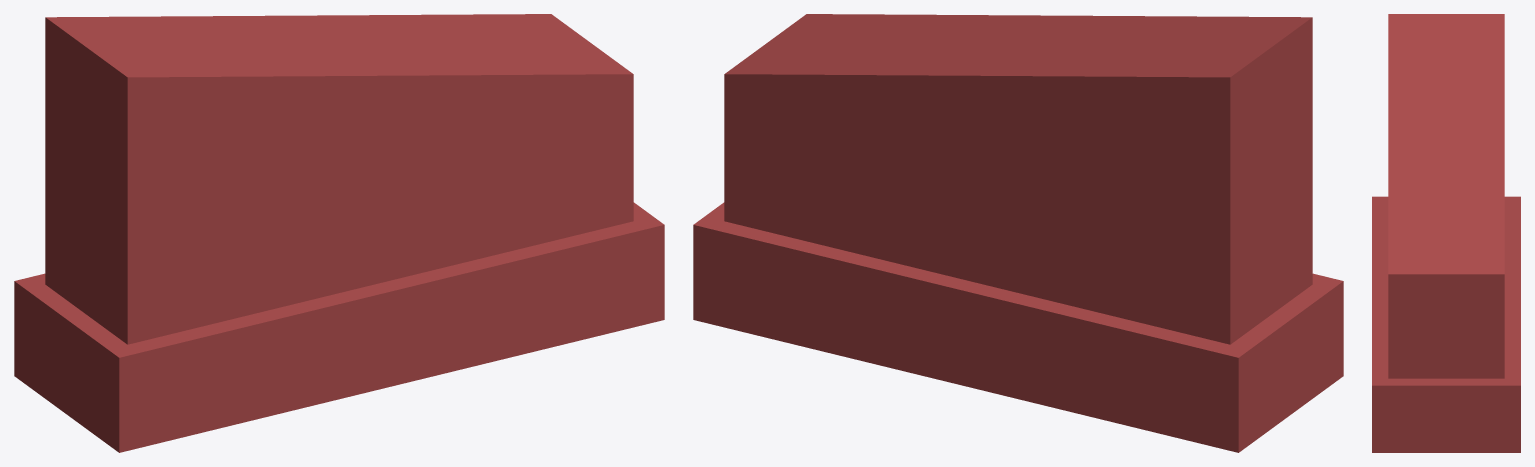
Rendered from Prop_SchoolNameSign.FBX.
3 renders of one model, left to right at view 1: azimuth 30°, elevation 25°; view 2: azimuth 150°, elevation 25°; view 3: azimuth 270°, elevation 25°, orthographic. The views are drawn at different scales.
Parts seen in each view (by area): view 1: Box002; view 2: Box002; view 3: Box002.
Boxes of the visible parts, box(x1,y1,x2,y2) form: Box002: box(14, 14, 664, 452); Box002: box(693, 14, 1343, 452); Box002: box(1372, 14, 1520, 452).
Size of the model in its own units: 300 by 191 by 100.
